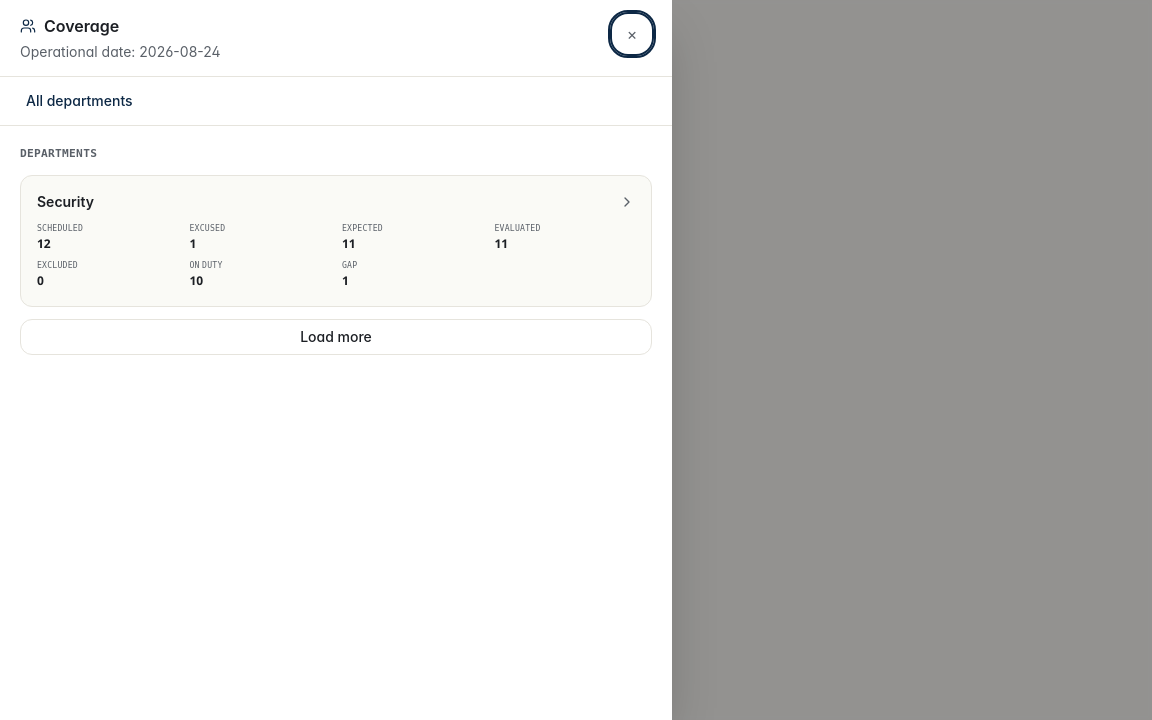
Test: WorkforceCoverageSheet › loads the next cursor page only when requested
Expected: the button "Security" is shown, [21,176,651,306]
Step 1. Click the button "Load more" → [336, 336], box [20,318,652,354]
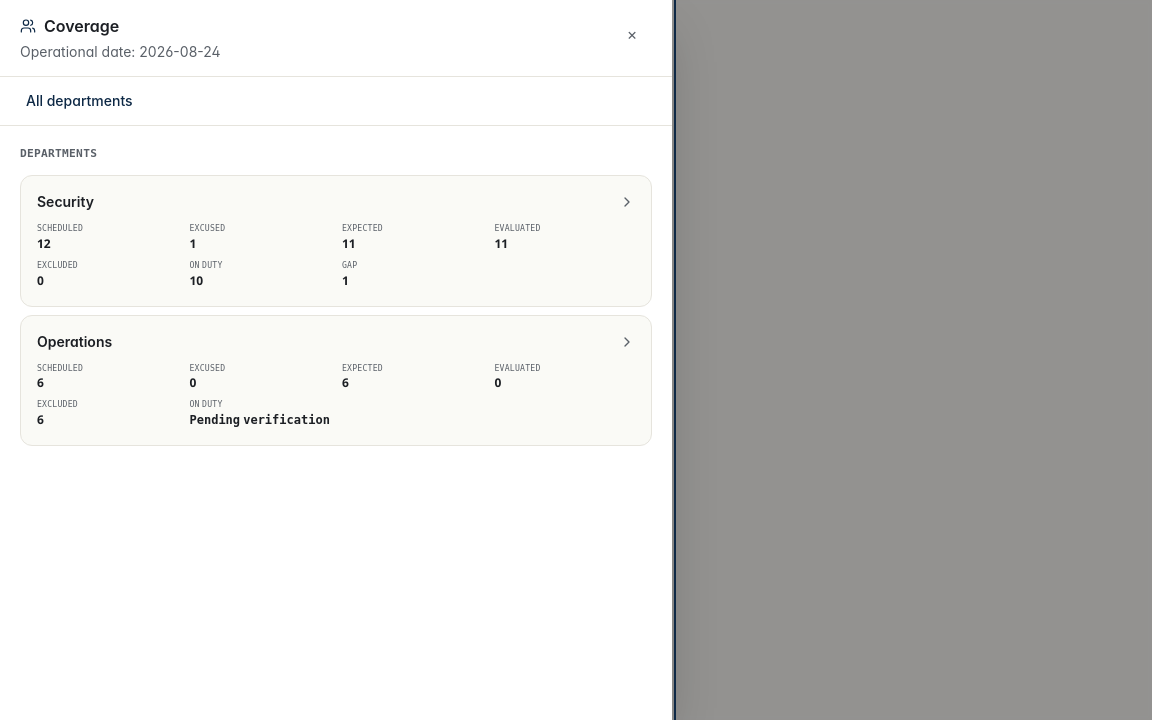
Expected: the button "Operations" is shown, [21,316,651,445]
